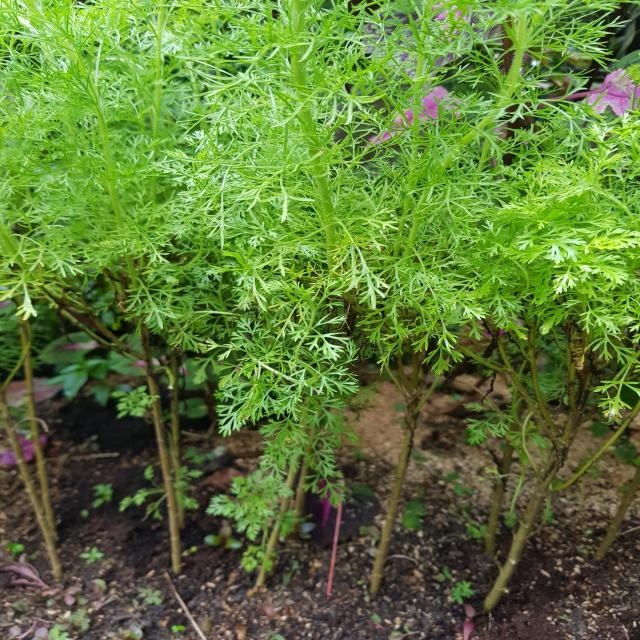Dill: (0, 8, 640, 515)
